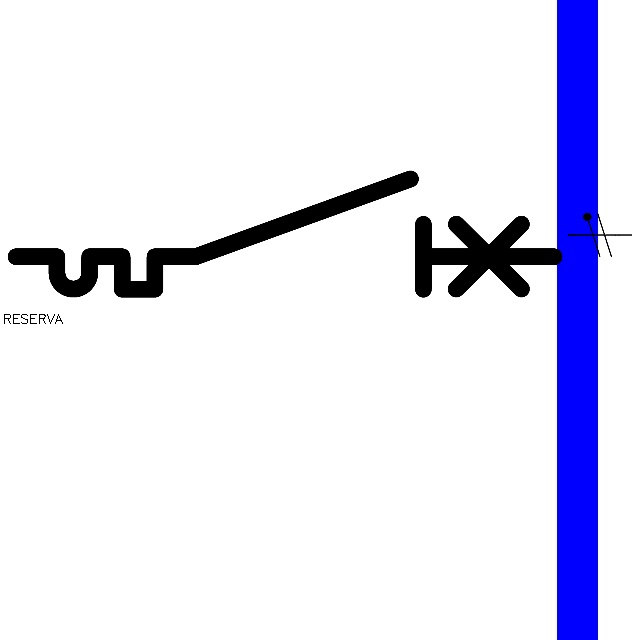interruptor_termomagnetico: (2, 165, 568, 303)
